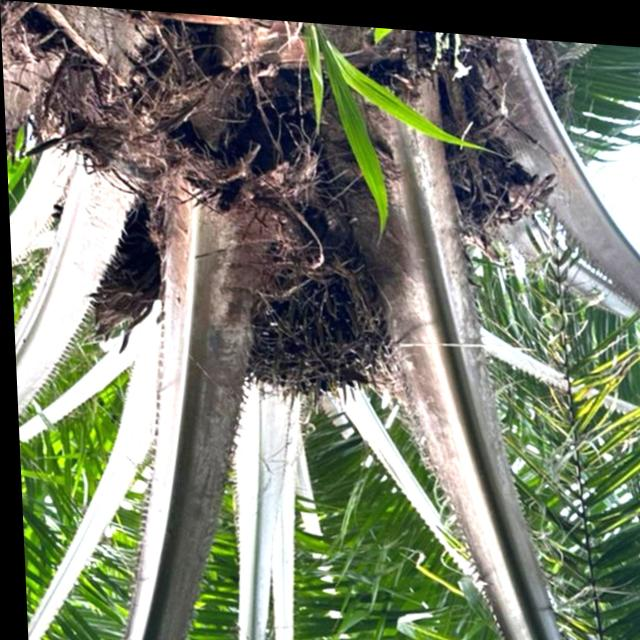unripe: (229, 242, 397, 414)
